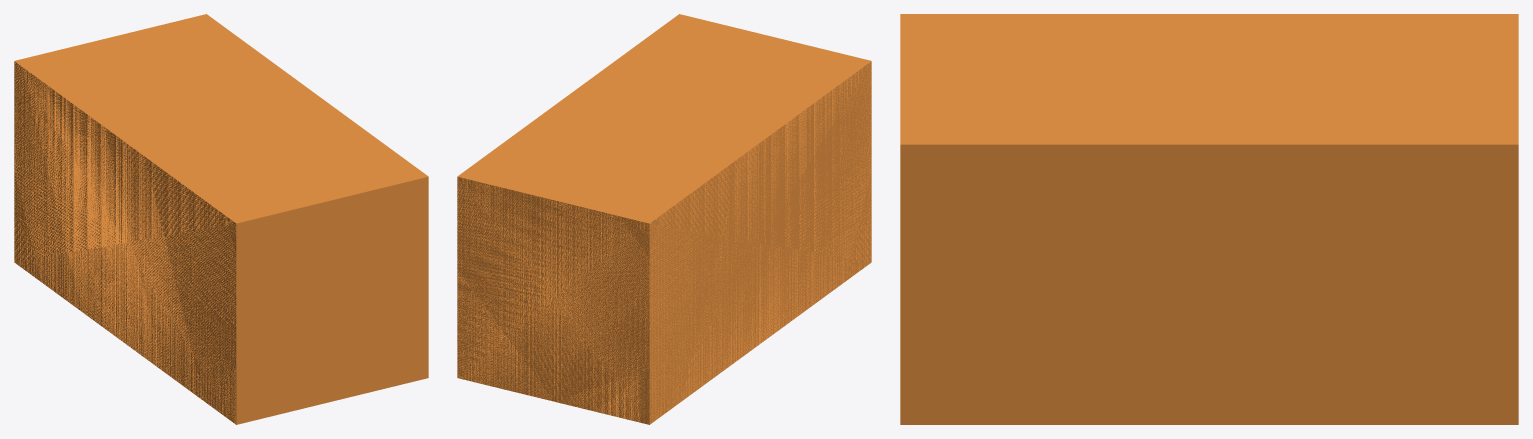
The model's file is hedef_ornek.glb.
3 renders of one model, left to right at view 1: azimuth 30°, elevation 25°; view 2: azimuth 150°, elevation 25°; view 3: azimuth 270°, elevation 25°, orthographic. The views are drawn at different scales.
Visible parts, largest first — view 1: hedef, COL_hedef; view 2: hedef, COL_hedef; view 3: hedef, COL_hedef.
Boxes of the visible parts, x1,y1,x2,y2 form: hedef: (14, 14, 428, 424); COL_hedef: (14, 14, 425, 423); hedef: (457, 14, 871, 424); COL_hedef: (457, 15, 871, 424); hedef: (900, 14, 1518, 424); COL_hedef: (900, 14, 1518, 144).
Size of the model in its own units: 0.5 by 0.5 by 1.
